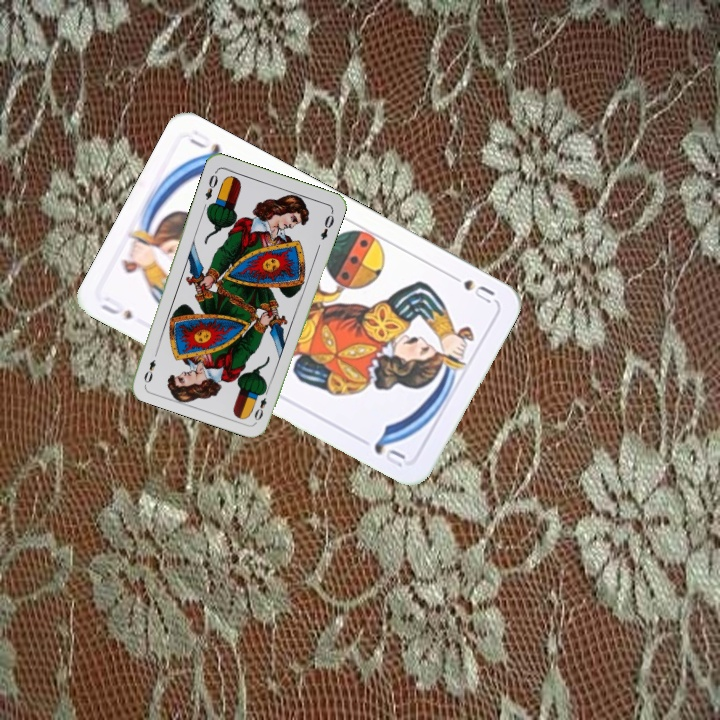EO: (250, 384, 272, 423), (201, 167, 220, 202)
SU: (443, 269, 498, 306), (97, 292, 135, 322)
